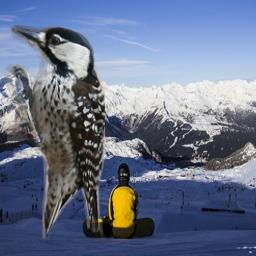Woodpecker: (2, 25, 105, 239)
